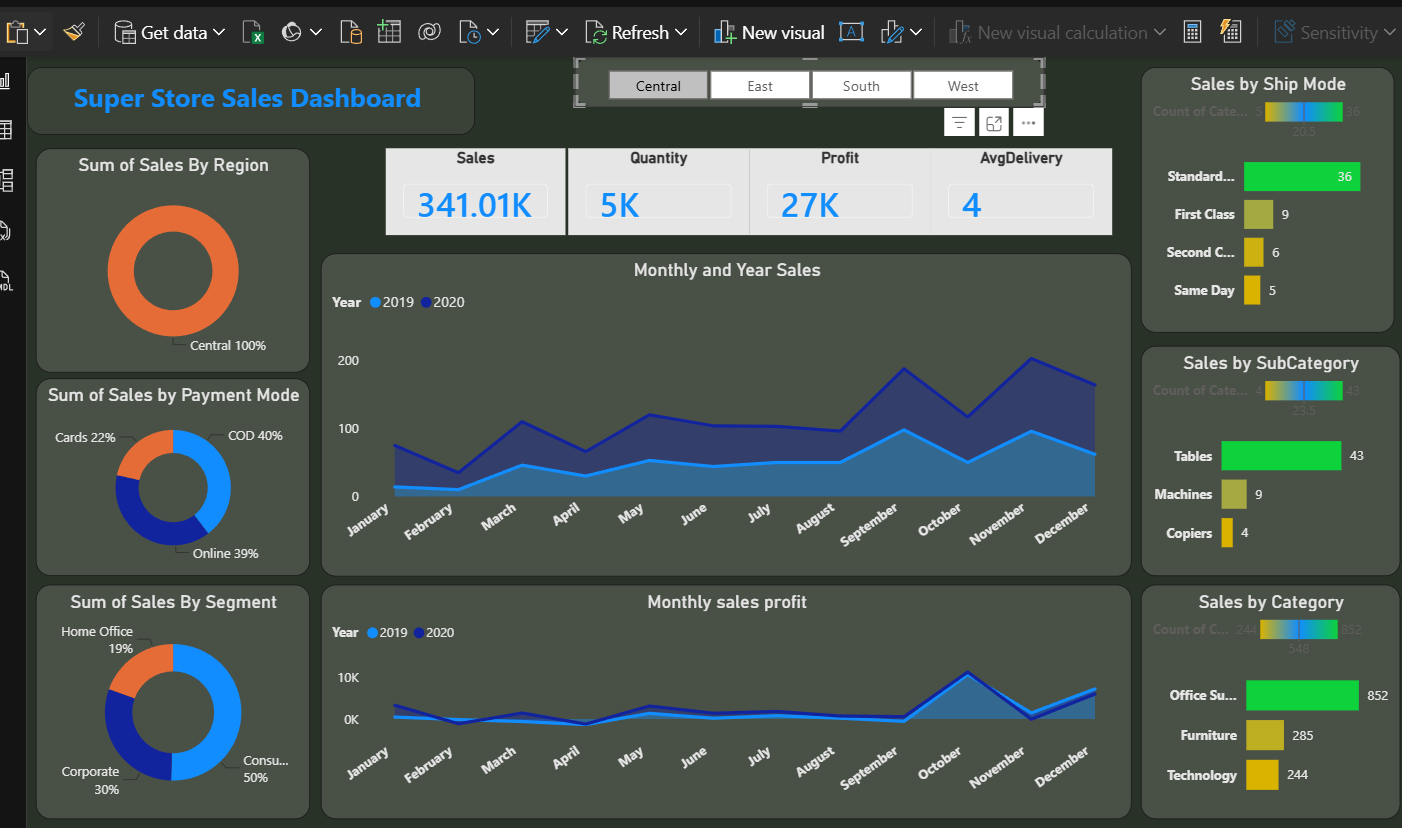

Layout of this report page (visuals, bound fields, positions):
{"tool":"powerbi","page":{"name":"Page 1","canvas":[1280,720],"ordinal":0},"visuals":[{"type":"clusteredBarChart","title":"Sales by Category","fields":{"Category":["SuperStore_Sales_Dataset csv.Category"],"Y":["CountNonNull(SuperStore_Sales_Dataset csv.Sales)"]},"box":[1036,491.3,241.5,218.2],"z":0},{"type":"clusteredBarChart","title":"Sales by SubCategory","fields":{"Category":["SuperStore_Sales_Dataset csv.Sub-Category"],"Y":["CountNonNull(SuperStore_Sales_Dataset csv.Sales)"]},"box":[1036,269,241.5,214.1],"z":1000},{"type":"clusteredBarChart","title":"Sales by Ship Mode","fields":{"Y":["CountNonNull(SuperStore_Sales_Dataset csv.Sales)"],"Category":["SuperStore_Sales_Dataset csv.Ship Mode"]},"box":[1036,9.6,236,247],"z":2000},{"type":"stackedAreaChart","title":"Monthly and Year Sales","fields":{"Y":["CountNonNull(SuperStore_Sales_Dataset csv.Sales)"],"Category":["SuperStore_Sales_Dataset csv.Order Date.Variation.Date Hierarchy.Month","SuperStore_Sales_Dataset csv.Order Date.Variation.Date Hierarchy.Day"],"Series":["SuperStore_Sales_Dataset csv.Order Date.Variation.Date Hierarchy.Year"]},"box":[272.7,182.6,754.7,300.6],"z":3000},{"type":"stackedAreaChart","title":"Monthly sales profit","fields":{"Category":["SuperStore_Sales_Dataset csv.Order Date.Variation.Date Hierarchy.Month","SuperStore_Sales_Dataset csv.Order Date.Variation.Date Hierarchy.Day"],"Series":["SuperStore_Sales_Dataset csv.Order Date.Variation.Date Hierarchy.Year"],"Y":["Sum(SuperStore_Sales_Dataset csv.Profit)"]},"box":[272.7,490.9,754.7,218.2],"z":4000},{"type":"donutChart","title":"Sum of Sales By Segment","fields":{"Category":["SuperStore_Sales_Dataset csv.Segment"],"Y":["CountNonNull(SuperStore_Sales_Dataset csv.Sales)"]},"box":[8.2,491.3,255.2,218.2],"z":5000},{"type":"donutChart","title":"Sum of Sales by Payment Mode","fields":{"Category":["SuperStore_Sales_Dataset csv.Payment Mode"],"Y":["CountNonNull(SuperStore_Sales_Dataset csv.Sales)"]},"box":[8.2,299.1,255.2,183.9],"z":6000},{"type":"donutChart","title":"Sum of Sales By Region","fields":{"Category":["SuperStore_Sales_Dataset csv.Region"],"Y":["Sum(SuperStore_Sales_Dataset csv.Sales)"]},"box":[8.2,85.1,255.2,208.6],"z":7000},{"type":"slicer","fields":{"Values":["SuperStore_Sales_Dataset csv.Region"]},"box":[509.1,0,437.7,46.7],"z":8000},{"type":"textbox","box":[0,9.6,417.2,63.1],"z":9000},{"type":"cardVisual","title":"Sales","fields":{"Data":["Sum(SuperStore_Sales_Dataset csv.Sales)"]},"box":[333.4,85.1,167.4,81],"z":10000},{"type":"cardVisual","title":"Quantity","fields":{"Data":["Sum(SuperStore_Sales_Dataset csv.Quantity)"]},"box":[503.6,85.1,168.8,81],"z":11000},{"type":"cardVisual","title":"Profit","fields":{"Data":["Sum(SuperStore_Sales_Dataset csv.Profit)"]},"box":[672.4,85.1,168.8,81],"z":12000},{"type":"cardVisual","title":"AvgDelivery","fields":{"Data":["Avg(SuperStore_Sales_Dataset csv.AvgDelivery)"]},"box":[841.2,85.1,168.8,81],"z":13000}]}

Visuals, with their boxes on the page's 1280x720 design canvas (x1, y1, x2, y2). These are canvas units, not pixel positions in the 1402x828 screenshot, which may show the page scaled, cropped or inside an application window:
"Sales by Category" clusteredBarChart: rect(1036, 491, 1278, 710)
"Sales by SubCategory" clusteredBarChart: rect(1036, 269, 1278, 483)
"Sales by Ship Mode" clusteredBarChart: rect(1036, 10, 1272, 257)
"Monthly and Year Sales" stackedAreaChart: rect(273, 183, 1027, 483)
"Monthly sales profit" stackedAreaChart: rect(273, 491, 1027, 709)
"Sum of Sales By Segment" donutChart: rect(8, 491, 263, 710)
"Sum of Sales by Payment Mode" donutChart: rect(8, 299, 263, 483)
"Sum of Sales By Region" donutChart: rect(8, 85, 263, 294)
slicer - SuperStore_Sales_Dataset csv.Region: rect(509, 0, 947, 47)
textbox: rect(0, 10, 417, 73)
"Sales" cardVisual: rect(333, 85, 501, 166)
"Quantity" cardVisual: rect(504, 85, 672, 166)
"Profit" cardVisual: rect(672, 85, 841, 166)
"AvgDelivery" cardVisual: rect(841, 85, 1010, 166)
